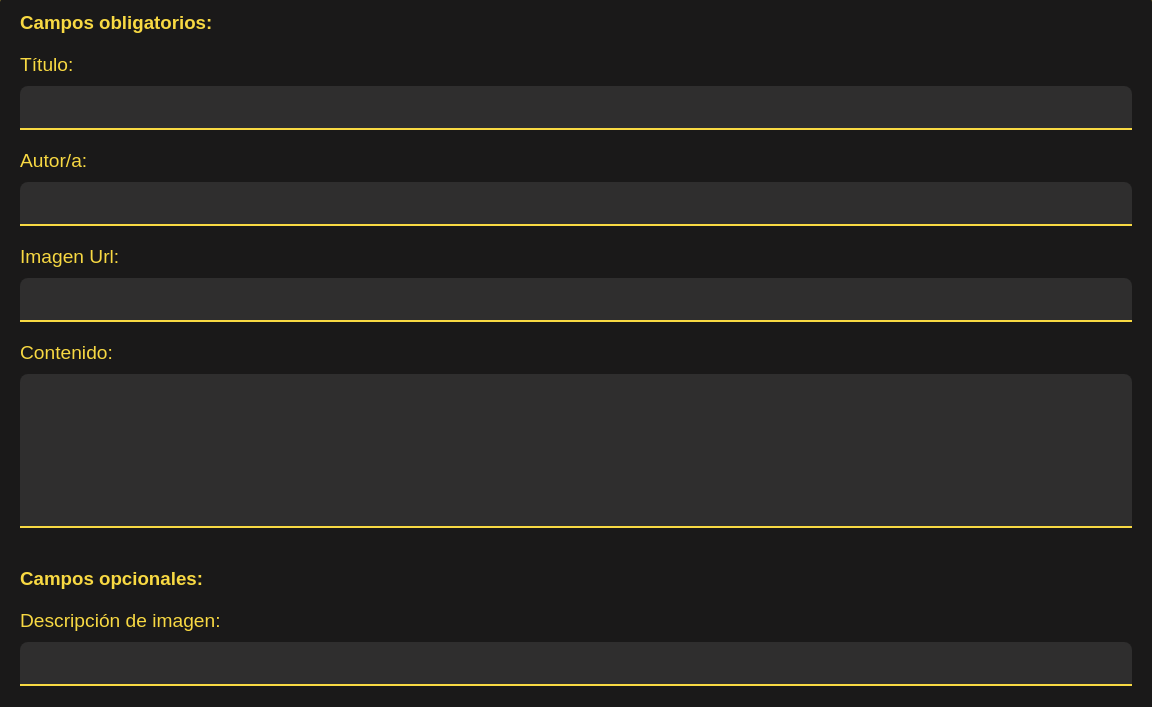
Test: Given the PostForm component › When it renders › And the user fills the form and clicks on 'Crear post' button › Then it should show a 'Crear post' button enabled
Type "Croquetas de la abuela: lo mejor" into the field labelled "Título:".
click(576, 108); type("Croquetas de la abuela: lo mejor")  # box left=20, top=86, right=1132, bottom=130
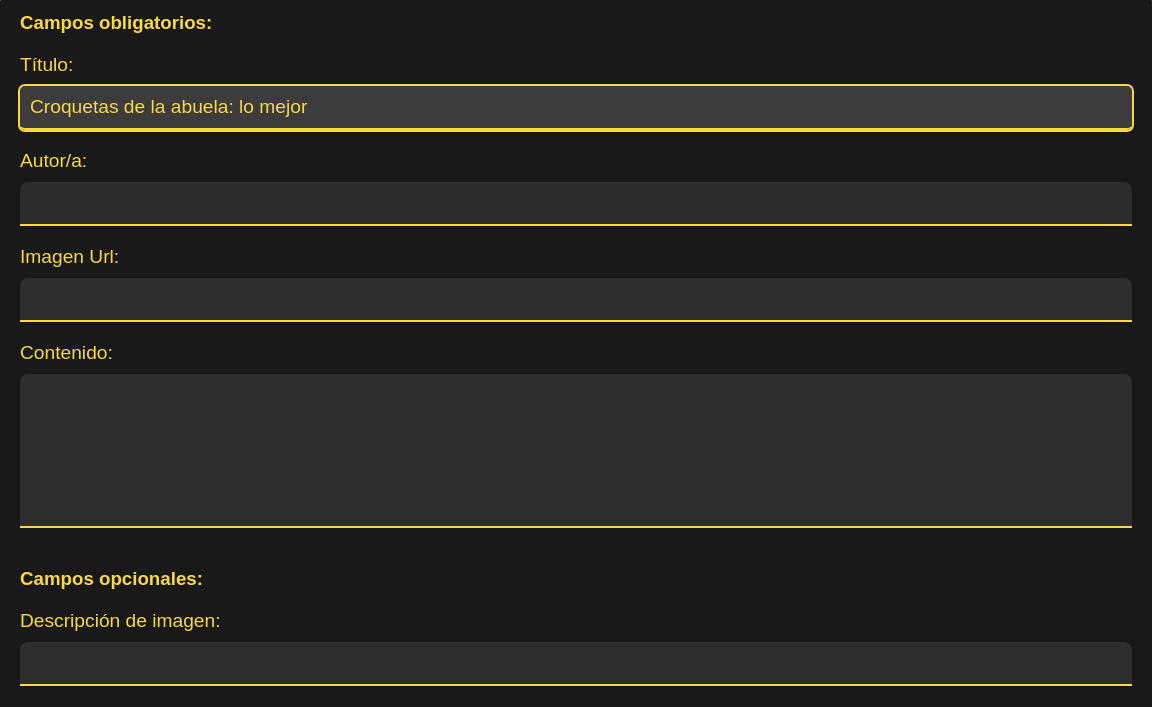
Type "Alex Uribe" into the field labelled "Autor/a:".
click(576, 204); type("Alex Uribe")  # box left=20, top=182, right=1132, bottom=226
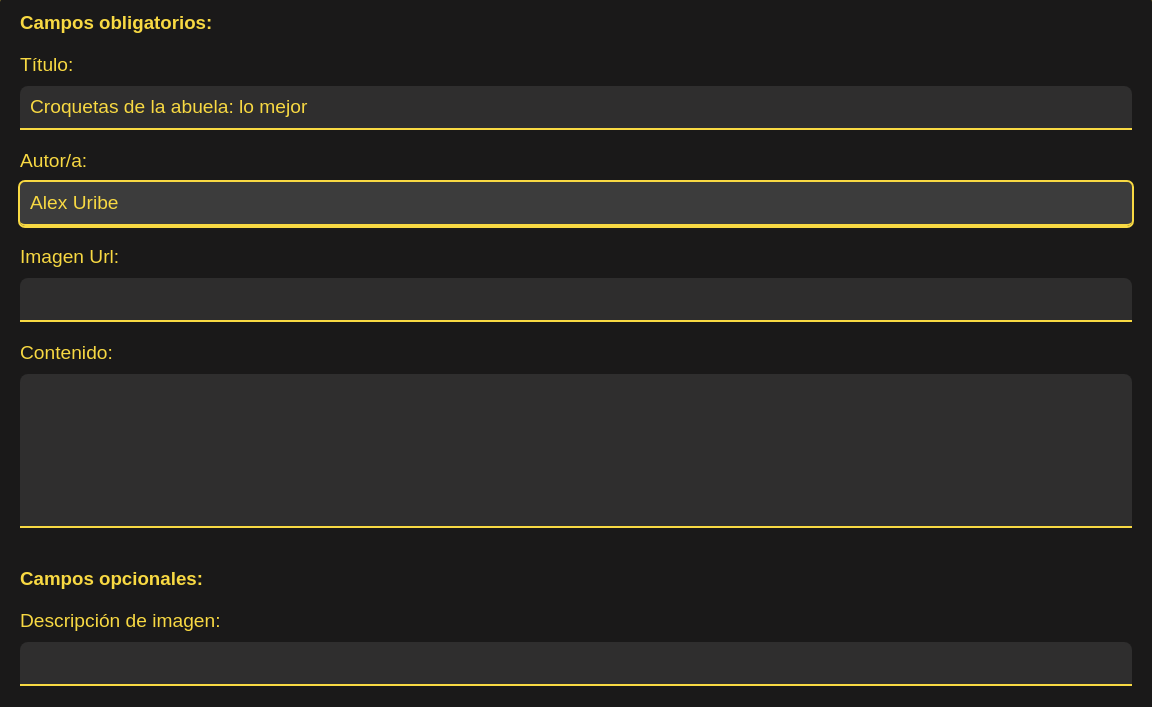
Type "https://www.google.com/" into the field labelled "Imagen Url:".
click(576, 300); type("https://www.google.com/")  # box left=20, top=278, right=1132, bottom=322
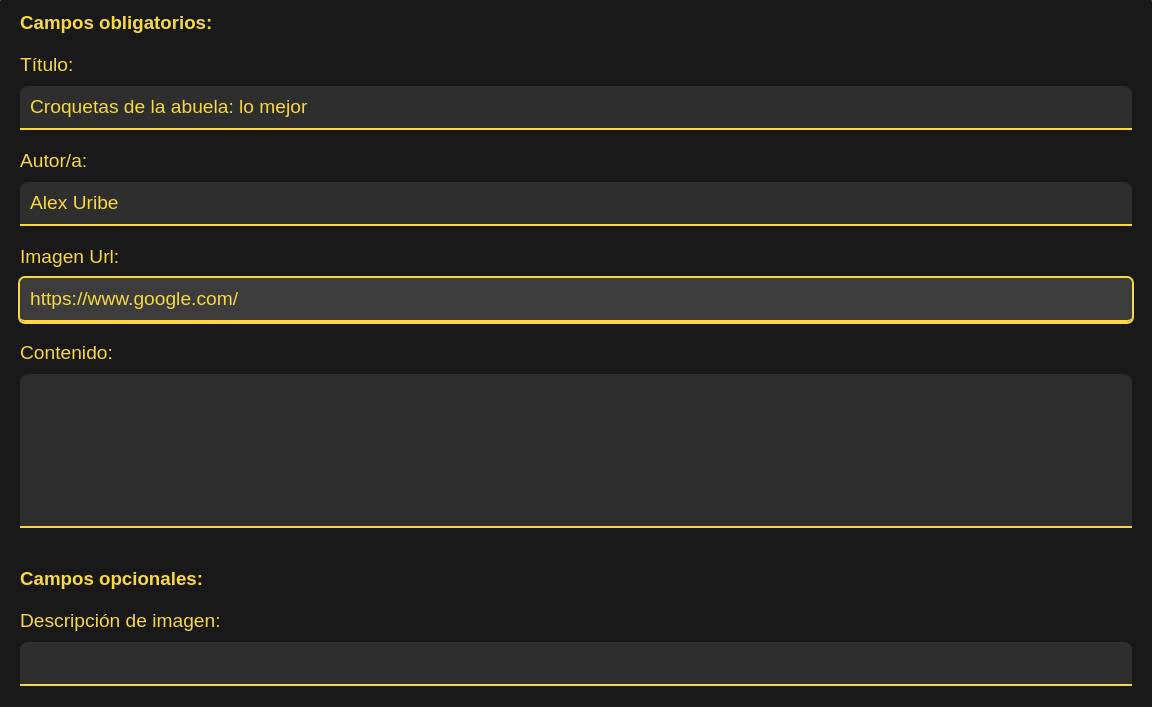
Type "Musho texto" into the text box labelled "Contenido:".
click(576, 451); type("Musho texto")  # box left=20, top=374, right=1132, bottom=528
(page scrolled)
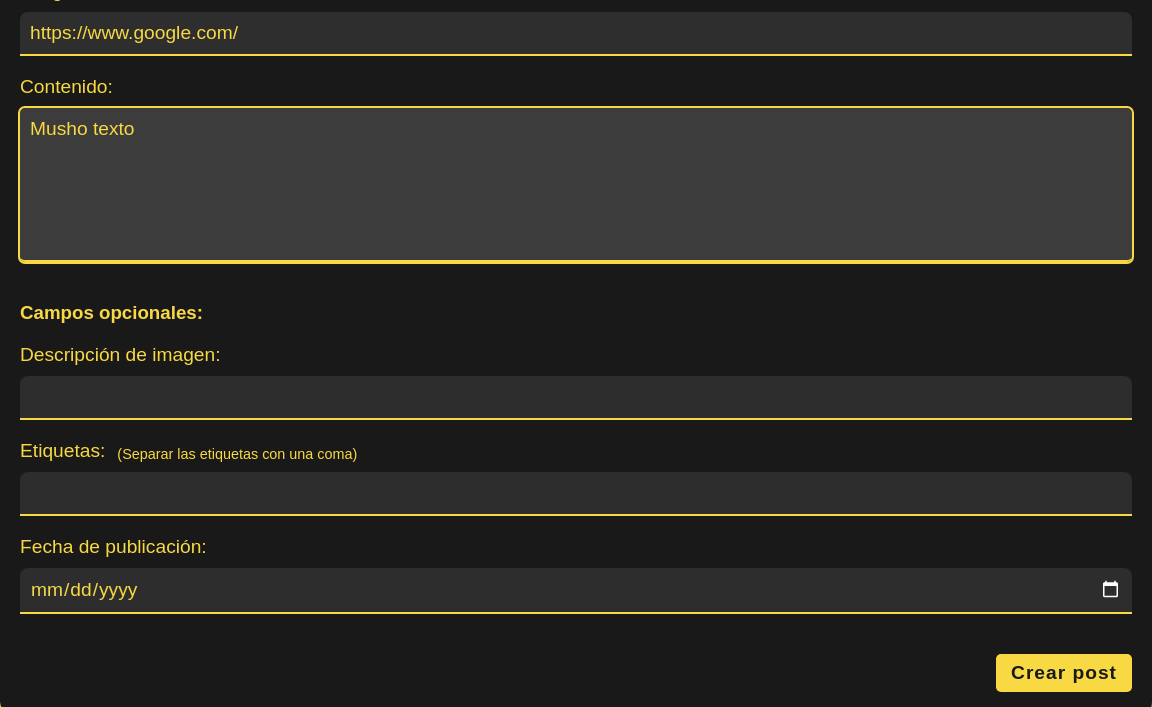
Result: the button "Crear post" is enabled at left=996, top=654, right=1132, bottom=692
